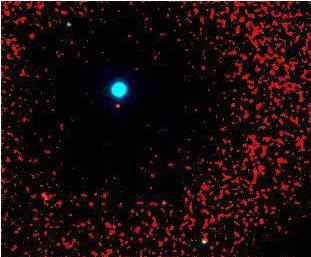star: (102, 89, 132, 119)
